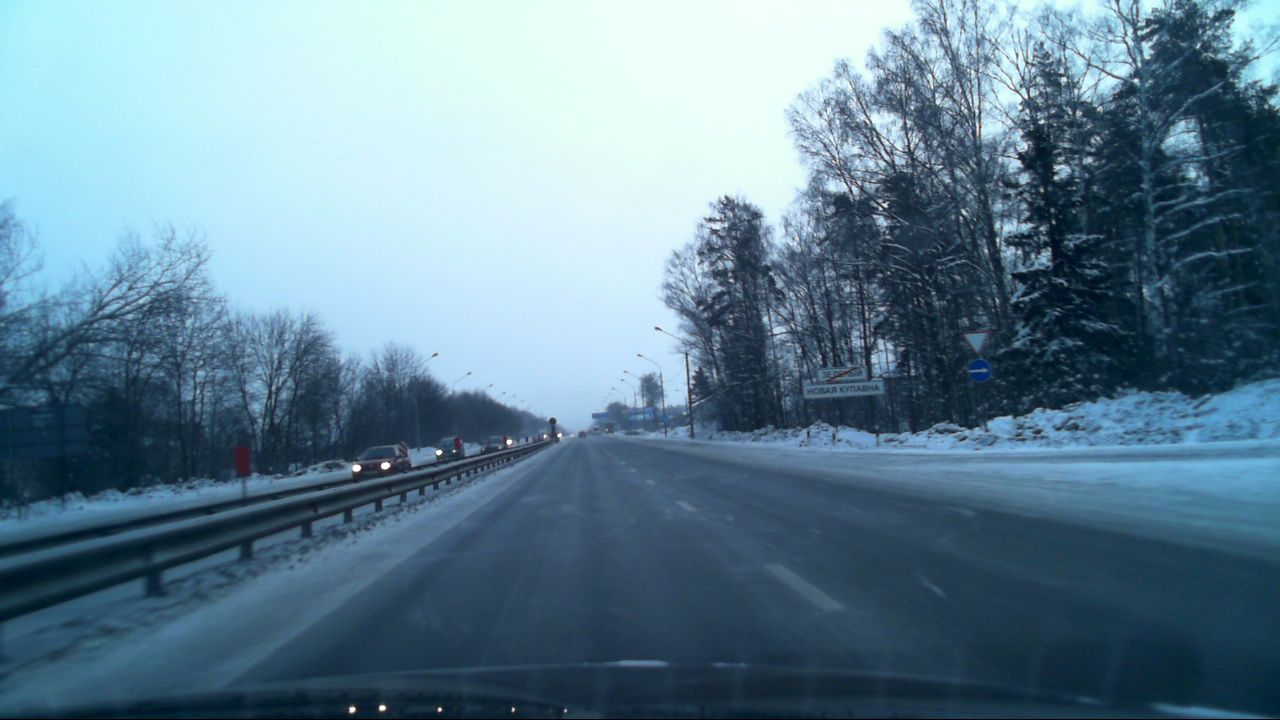Turn Right: (967, 359, 993, 384)
